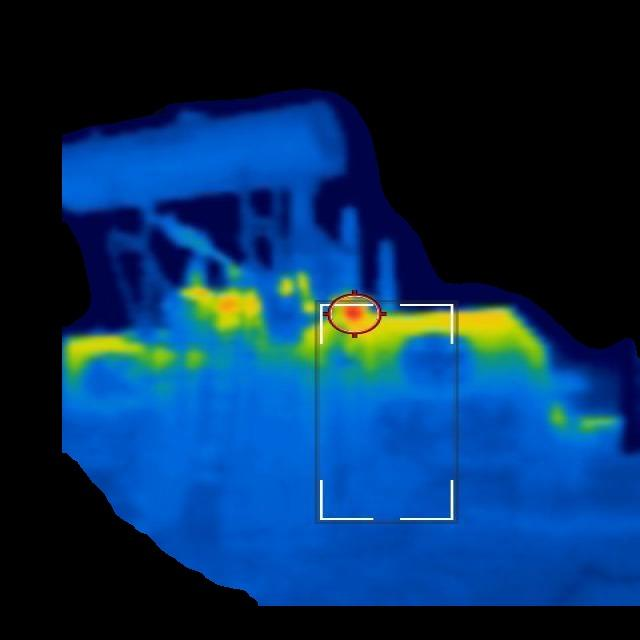Loose Joint F: (331, 293, 374, 326)
Loose Joint PF: (181, 285, 263, 328)
Transformer Overload: (65, 299, 558, 387)
